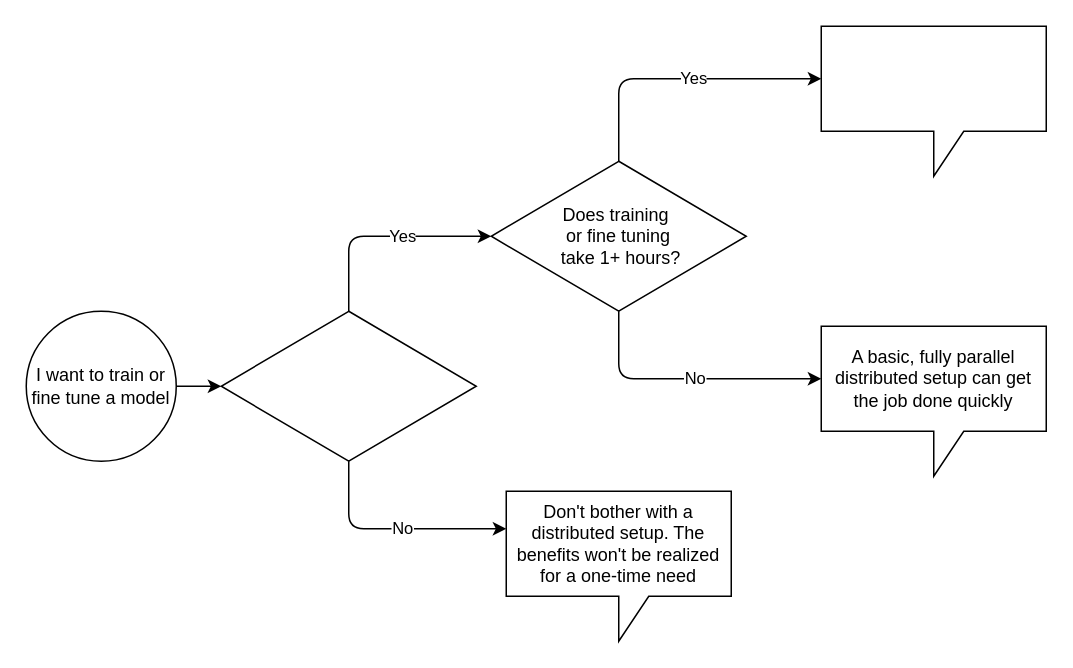
Some shapes in this 1073 by 668 pixel diagram are drawn without their labels. Here are the shapes that lost their labels. From the top down, the centre of each, then its label:
At point 933,100: "Use sharding & a mature distributed framework to save significant time at scale".
At point 348,385: "Do you need to do this multiple times?".
